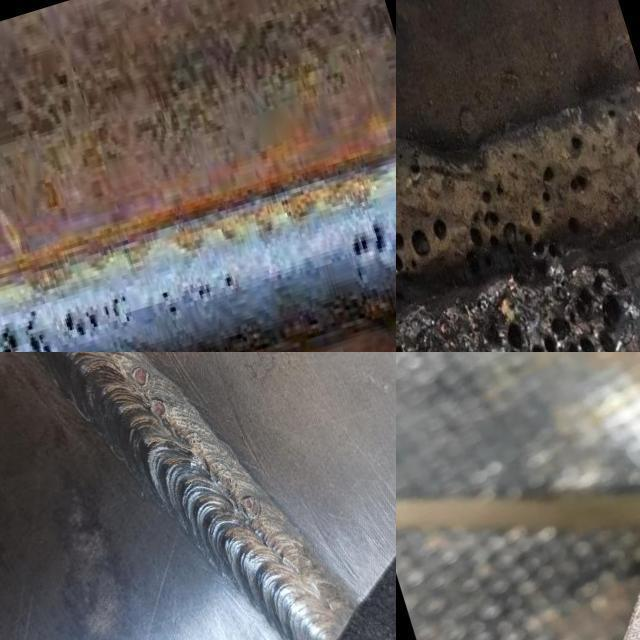defect: (462, 130, 591, 280), (500, 267, 630, 352), (396, 213, 451, 279), (347, 214, 387, 292), (0, 308, 56, 352), (61, 298, 100, 344), (100, 284, 132, 336), (406, 147, 430, 192), (157, 286, 181, 317), (193, 280, 215, 307), (129, 364, 153, 388), (148, 396, 171, 421), (223, 261, 239, 292), (243, 493, 261, 519), (217, 469, 234, 492), (186, 430, 202, 449)
